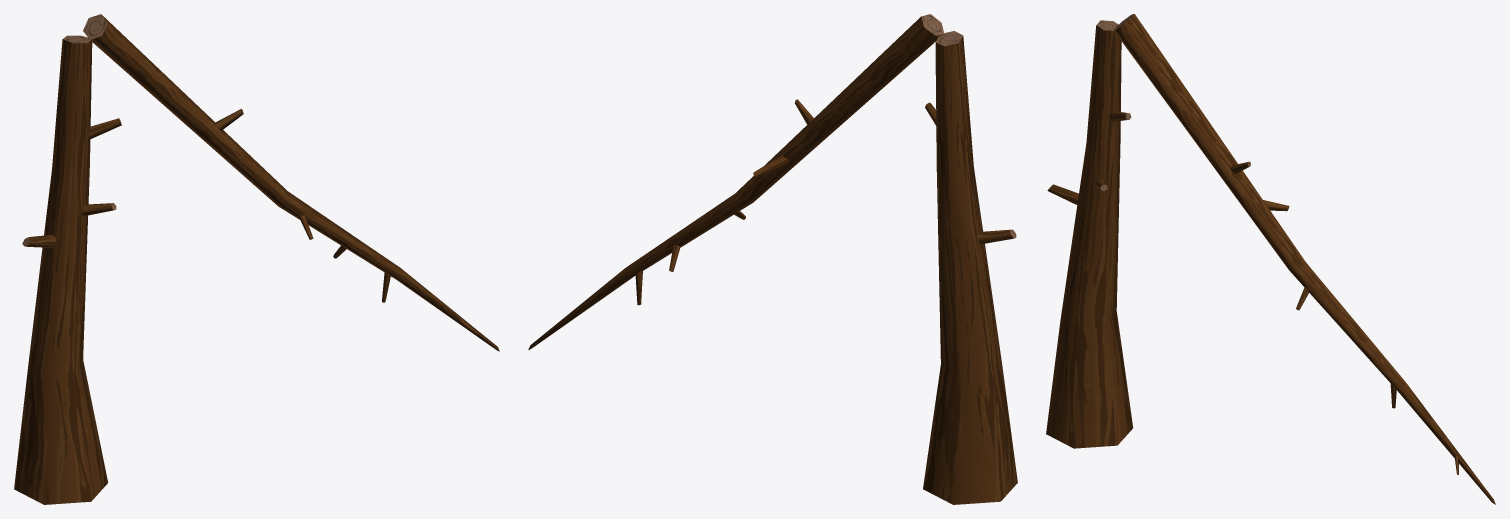
File: SM_ENV_tree_battle_03.fbx
The picture shows the model from 3 angles, left to right: view 1: azimuth 30°, elevation 25°; view 2: azimuth 150°, elevation 25°; view 3: azimuth 330°, elevation 25°; orthographic projection. The views are drawn at different scales.
Parts seen in each view (by area): view 1: SM_ENV_tree_battle_03_LOD0; view 2: SM_ENV_tree_battle_03_LOD0; view 3: SM_ENV_tree_battle_03_LOD0.
Boxes of the visible parts, bbox=[...] form: SM_ENV_tree_battle_03_LOD0: bbox=[14, 14, 499, 504]; SM_ENV_tree_battle_03_LOD0: bbox=[528, 14, 1017, 504]; SM_ENV_tree_battle_03_LOD0: bbox=[1046, 14, 1495, 504].
Size of what is drawn, in the model's own units: 560 by 511 by 95.21.
